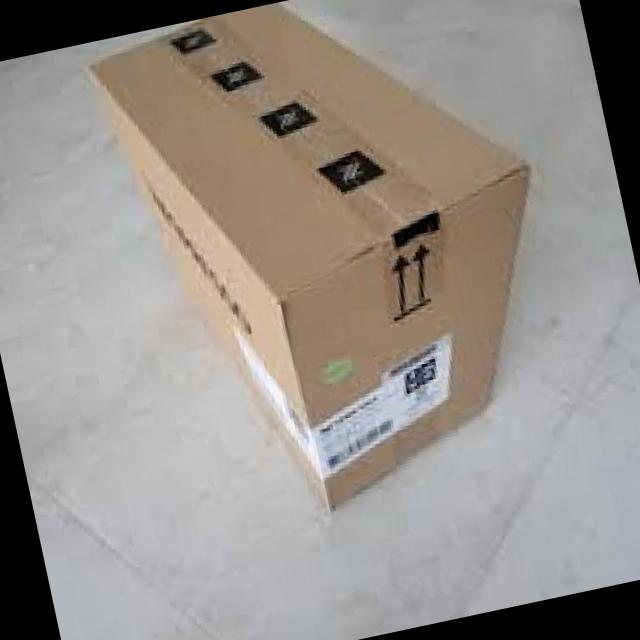box: (85, 1, 532, 514)
